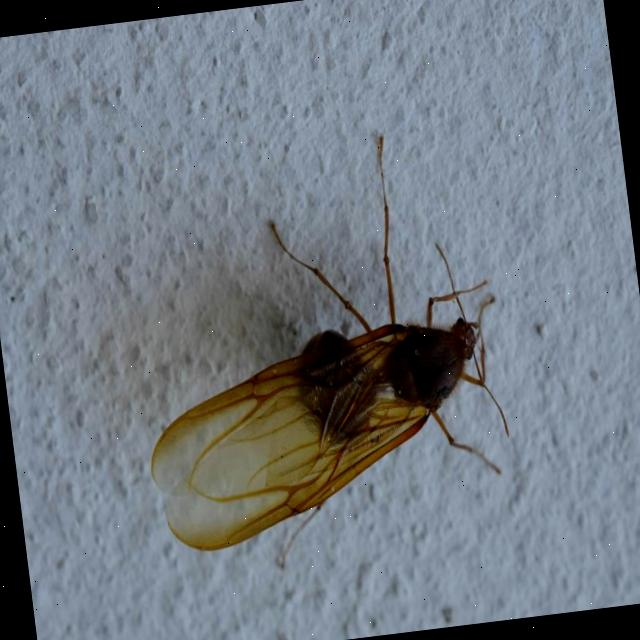Alive-Male-Alate: (114, 122, 527, 589)
